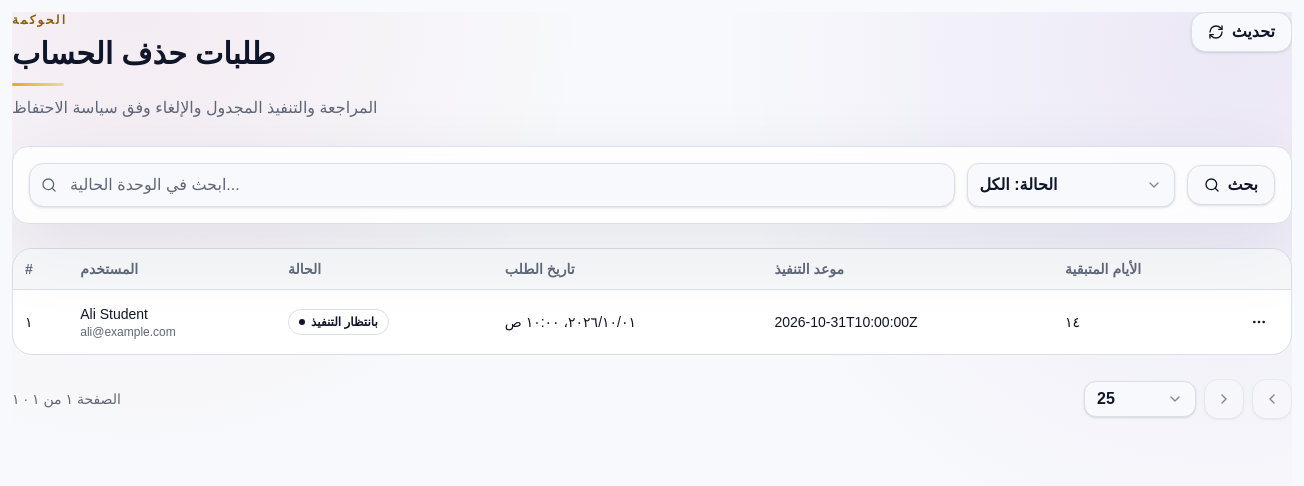
Test: account deletions page › hides immediate execution from a non-admin role
Step 1. Click the button named "الإجراءات" → (1259,322), box [1239, 302, 1279, 342]
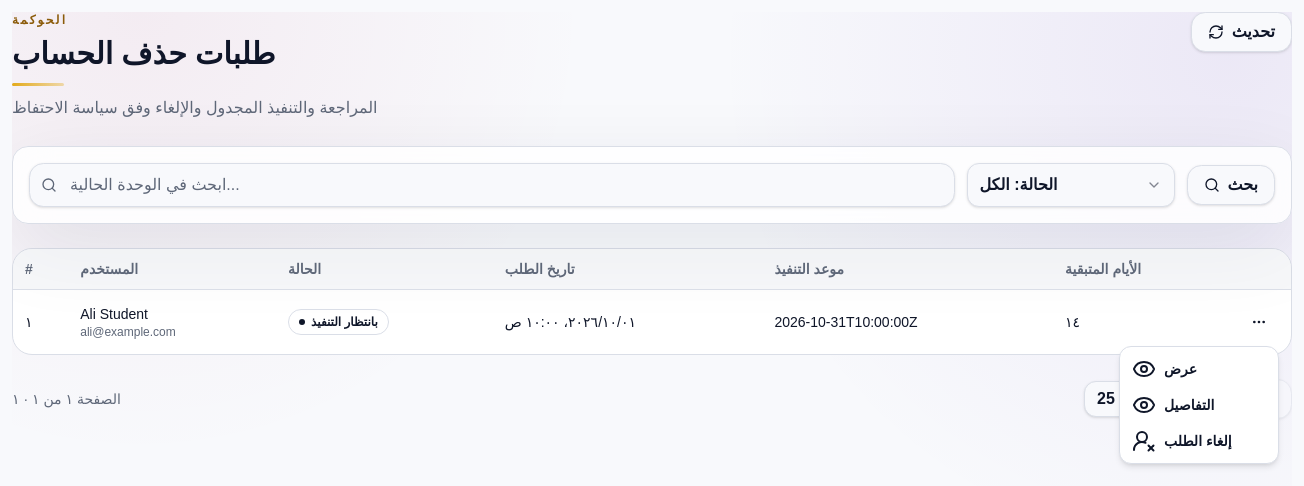
Expected: the menu item "إلغاء الطلب" is shown, [1132, 429, 1232, 453]
